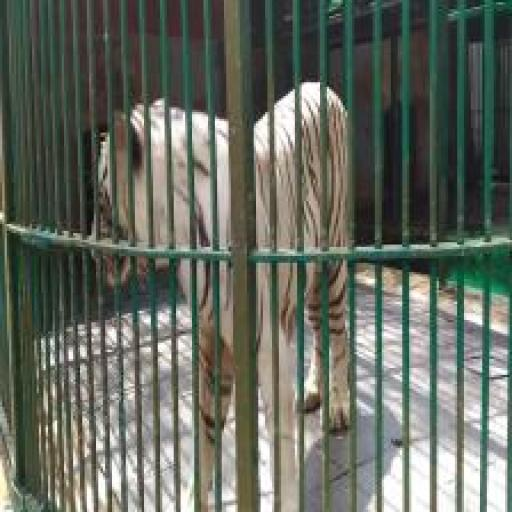Tiger: (89, 82, 364, 508)
